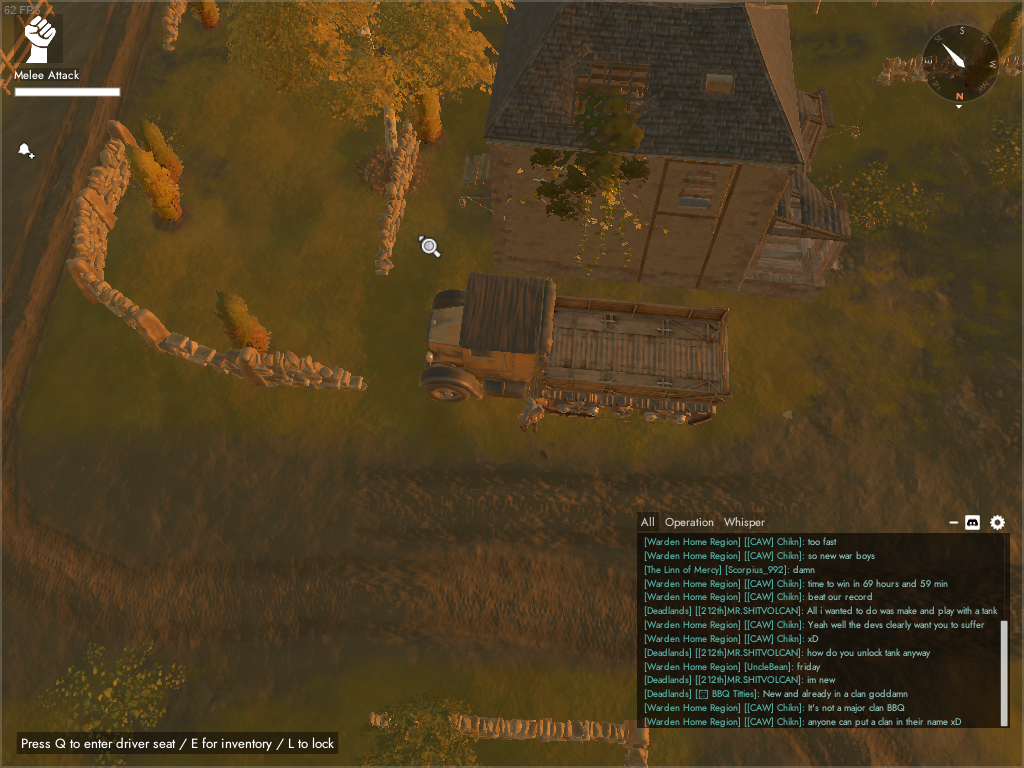flatbed: (416, 270, 737, 428)
player: (512, 395, 546, 436)
toggle_vehicle_operation: (14, 729, 342, 756)
